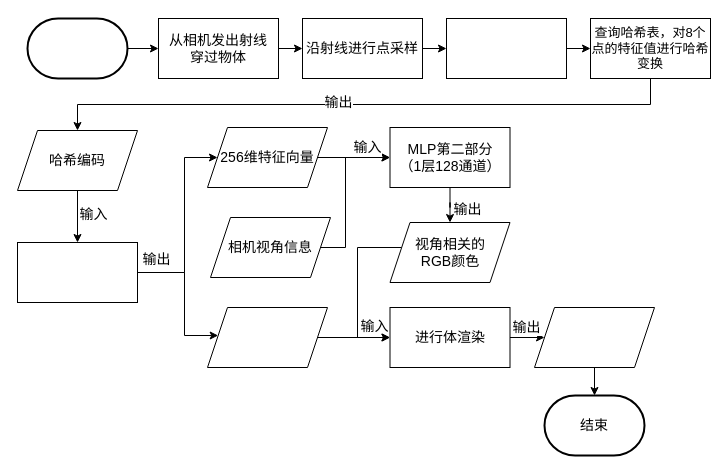
This 728x473 diagram has some shape labels left out. The box of each missing label's shape, as (x1, y1, x2, y2) in pixels:
MLP第一部分 （8层256通道）: (16, 242, 138, 302)
体密度: (206, 306, 328, 368)
寻找采样点所在 网格8个顶点: (446, 18, 566, 78)
开始: (26, 17, 128, 79)
新视角的图片: (534, 306, 654, 368)
